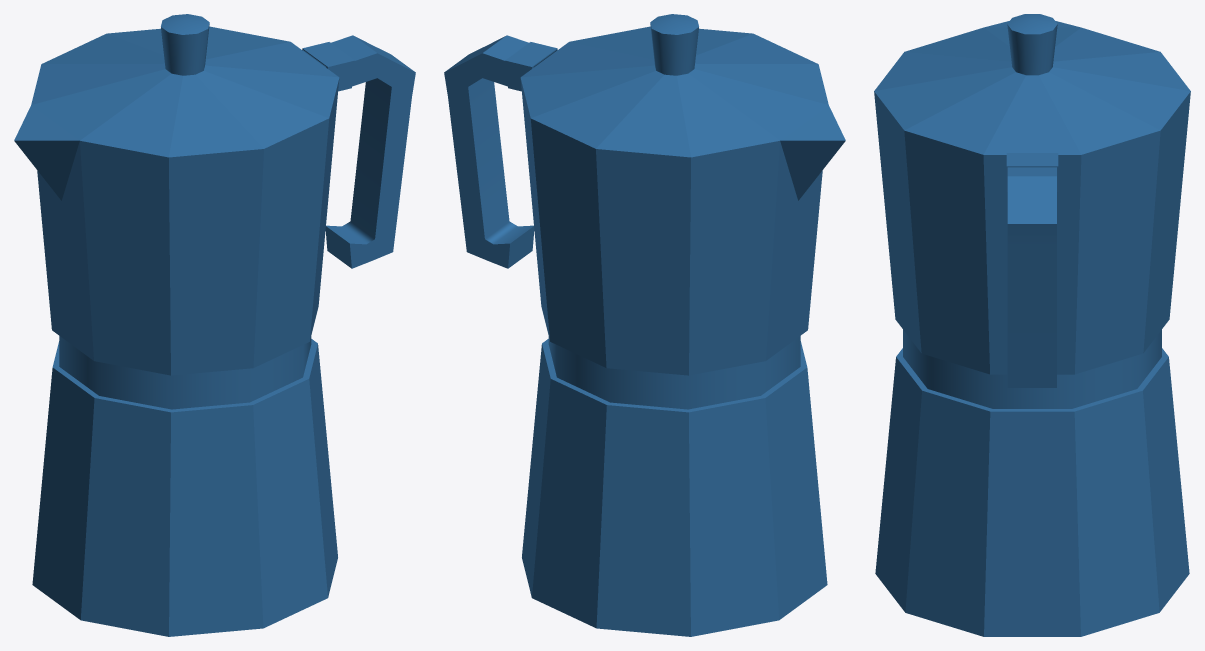
The model's file is cafeterahornalla.fbx.
3 renders of one model, left to right at view 1: azimuth 30°, elevation 25°; view 2: azimuth 150°, elevation 25°; view 3: azimuth 270°, elevation 25°, orthographic.
Parts seen in each view (by area): view 1: CafeteraHornalla; view 2: CafeteraHornalla; view 3: CafeteraHornalla.
Part boxes in pixels (x1,y1,x2,y2): CafeteraHornalla: (14, 14, 415, 636); CafeteraHornalla: (444, 14, 845, 636); CafeteraHornalla: (874, 14, 1190, 636).
Size of the model in its own units: 0.3794 by 0.5128 by 0.2658.
